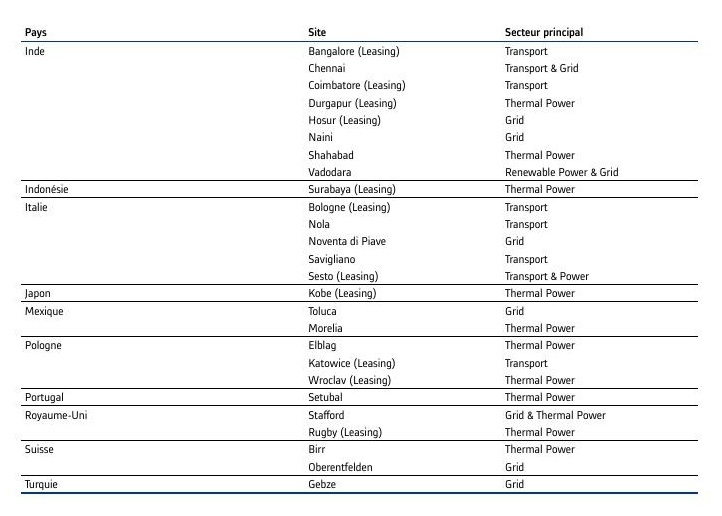table: (0, 0, 722, 516)
